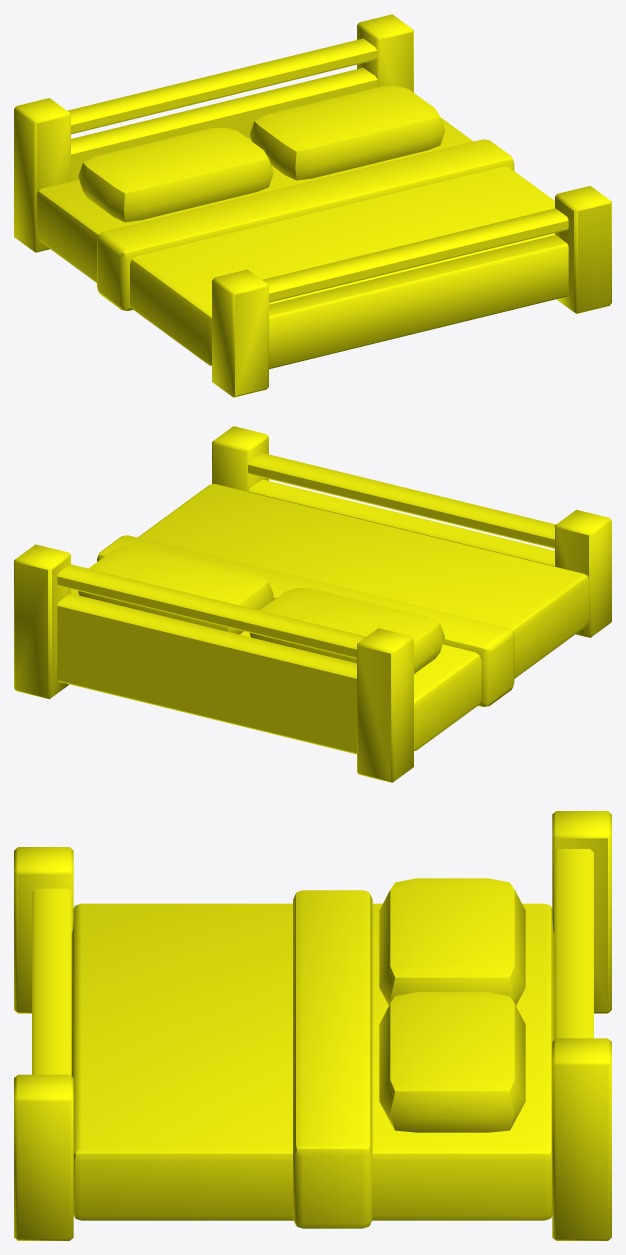
File: kaykit-bed-double-b.glb
3 views of the same model, one above another, from view 1: azimuth 30°, elevation 25°; view 2: azimuth 150°, elevation 25°; view 3: azimuth 270°, elevation 25° (orthographic). The views are drawn at different scales.
Visible parts, largest first — view 1: bed_double_B; view 2: bed_double_B; view 3: bed_double_B.
Boxes of the visible parts, left/top/right/bottom form: bed_double_B: left=14, top=14, right=611, bottom=397; bed_double_B: left=14, top=426, right=611, bottom=782; bed_double_B: left=14, top=811, right=611, bottom=1240.
Size of the model in its own units: 3.1 by 0.9999 by 3.
